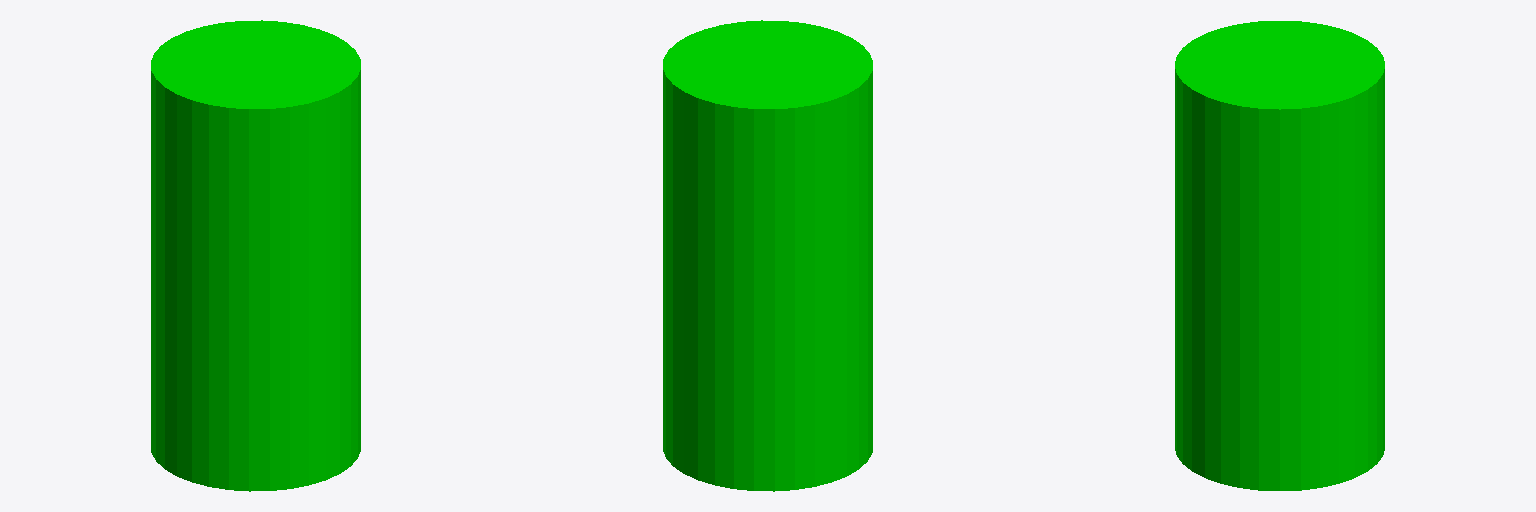
URDF robot description (simple_cylinder):
<?xml version="1.0"?>
<robot name="simple_cylinder">
  <link name="cylinder_base">
    <inertial>
      <origin xyz="0 0 0" rpy="0 0 0"/>
      <mass value="0.088"/>
      <inertia ixx="0.0001471708" ixy="0" ixz="0" iyy="0.0001471708" iyz="0" izz="0.000046475"/>
    </inertial>
    <visual>
      <origin xyz="0 0 0" rpy="0 0 0"/>
      <geometry>
        <cylinder length="0.130" radius="0.0325"/>
      </geometry>
      <material name="bright green">
        <color rgba="0.0 0.9 0.0 1"/>
      </material>
    </visual>
    <collision>
      <geometry>
        <cylinder length="0.130" radius="0.0325"/>
      </geometry>
    </collision>
  </link>
</robot>

--- Facts derived from the render (not from the file) ---
The picture shows the robot from 3 angles, left to right: view 1: azimuth 30°, elevation 25°; view 2: azimuth 150°, elevation 25°; view 3: azimuth 270°, elevation 25°; orthographic projection.
Robot: simple_cylinder — 1 links, 0 joints (none); root link cylinder_base; default pose: all joints at 0.
Links seen in each view (by area): view 1: cylinder_base; view 2: cylinder_base; view 3: cylinder_base.
Link boxes in pixels (x1,y1,x2,y2): cylinder_base: (151, 20, 360, 491); cylinder_base: (663, 20, 872, 491); cylinder_base: (1175, 21, 1384, 490).
Bounding box of the posed robot: 0.065 × 0.065 × 0.13 m (x, y, z).
Geometry: primitives only (box / cylinder / sphere), no mesh files.